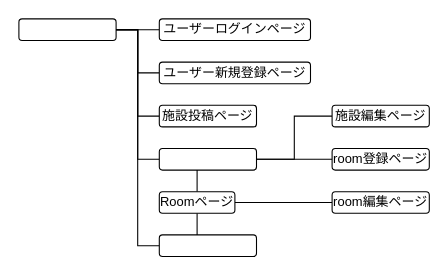
Some shapes in this 448 by 275 pixel diagram are drawn without their labels. The shapes that lost their labels are listed below. From the top down, each one's centre as x and y in pixels, then its label:
At [67,29]: "施設一覧ページ".
At [207,158]: "施設詳細ページ".
At [207,245]: "room一覧ページ".
